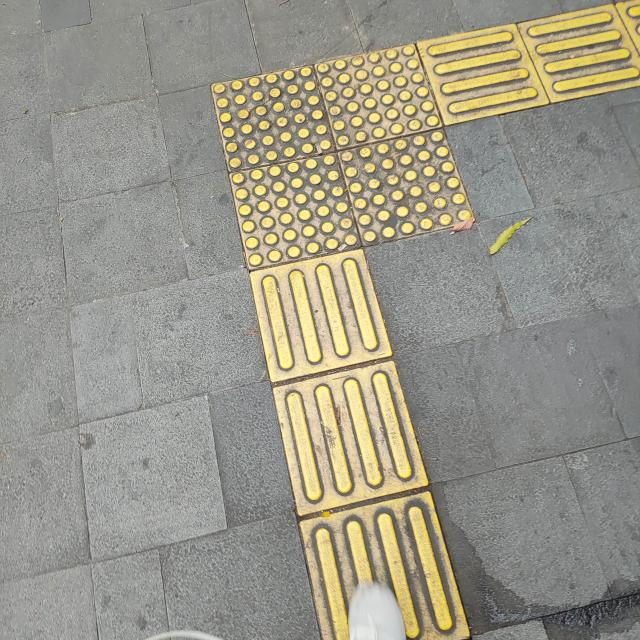kanan: (147, 13, 640, 332)
